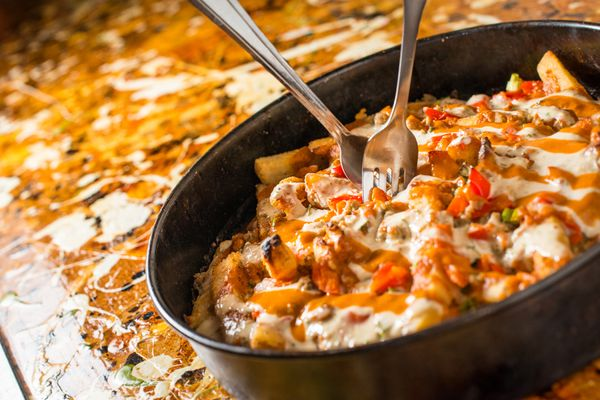salad: (187, 0, 374, 183), (357, 3, 424, 200)
sushi: (144, 54, 599, 394)
